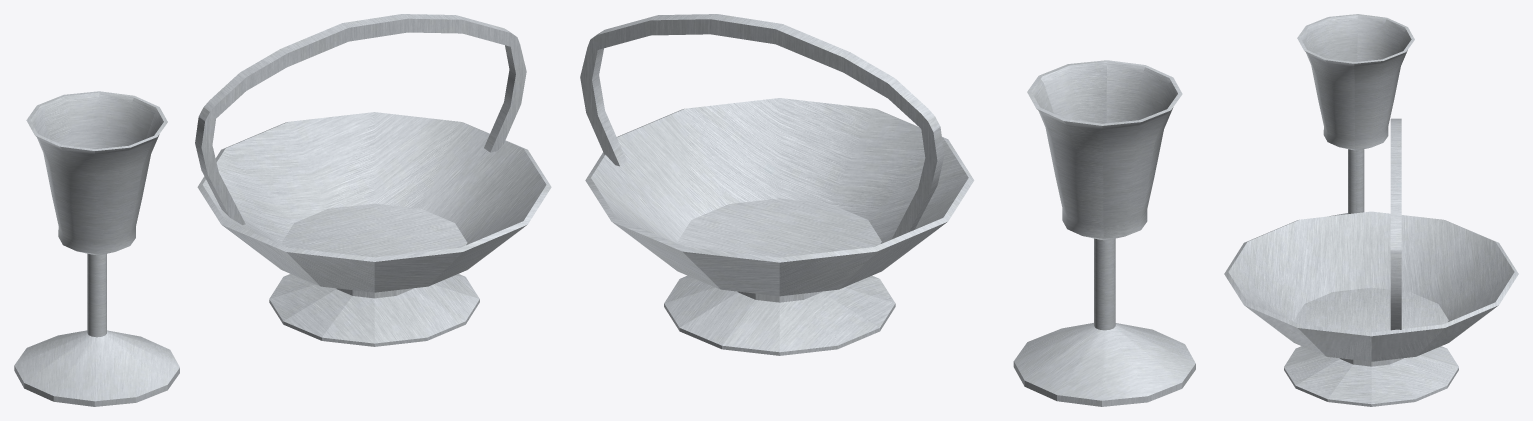
Rendered from brass_items.fbx.
3 views of the same model, side by side, from view 1: azimuth 30°, elevation 25°; view 2: azimuth 150°, elevation 25°; view 3: azimuth 270°, elevation 25° (orthographic). The views are drawn at different scales.
Parts seen in each view (by area): view 1: pCube2, pCylinder1; view 2: pCube2, pCylinder1; view 3: pCube2, pCylinder1.
Part boxes in pixels (x1=…): pCube2: x1=195, y1=14, x2=551, y2=346; pCylinder1: x1=14, y1=91, x2=179, y2=406; pCube2: x1=580, y1=14, x2=974, y2=355; pCylinder1: x1=1013, y1=60, x2=1195, y2=406; pCube2: x1=1224, y1=118, x2=1518, y2=406; pCylinder1: x1=1297, y1=14, x2=1414, y2=216.
Bounding box in the file's own units: 261 × 129 × 153.
Materials: 1 (1 with a texture image).
